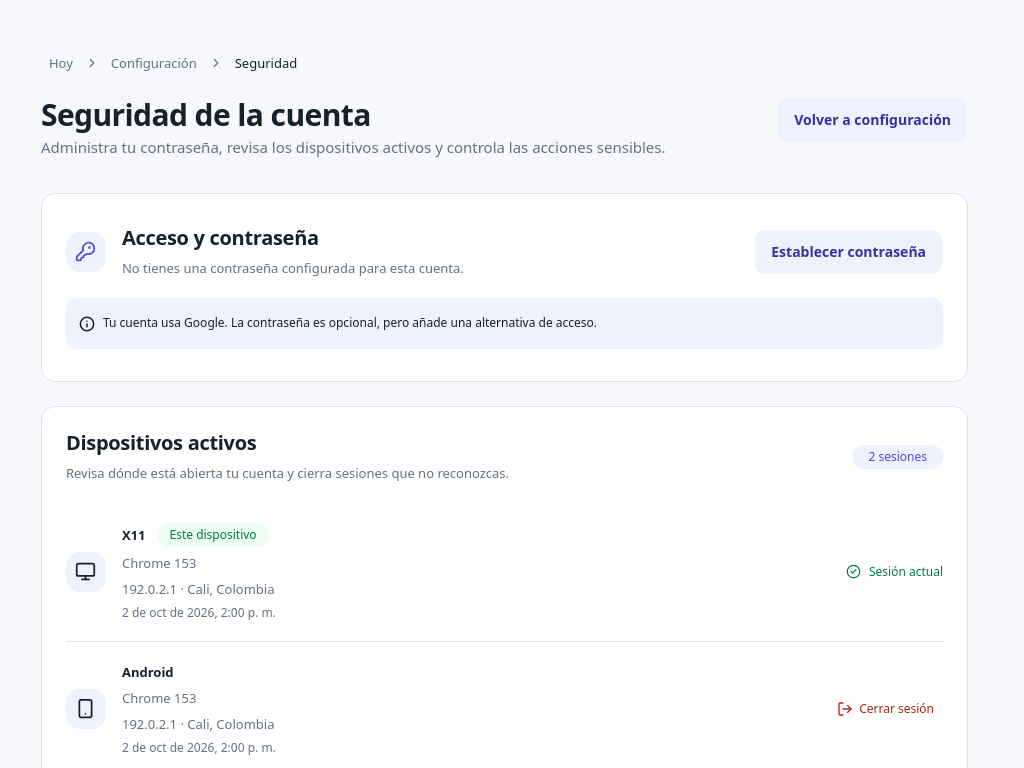
SecurityPage › muestra los dispositivos reales y sólo permite cerrar las otras sesiones
Expected: the text "2 sesiones" is shown, top-left (852, 445), bottom-right (943, 469)
Expected: the text "Este dispositivo" is shown, top-left (158, 523), bottom-right (269, 547)
What coordinates should you click on to do the following:
click the button with aria-label "Cerrar sesión: Android"
I would click on:
 (886, 709)
Its box is top-left (828, 687), bottom-right (943, 731).
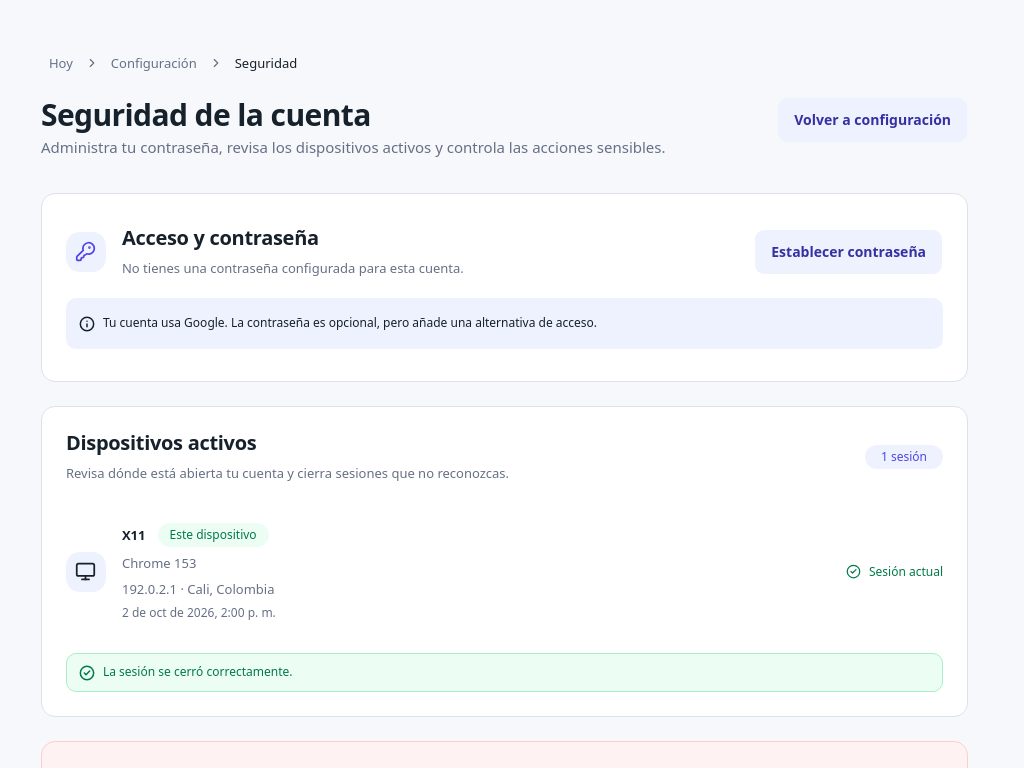
Expected: the text "1 sesión" is shown, top-left (865, 445), bottom-right (943, 469)
Expected: the text "La sesión se cerró correctamente." is shown, top-left (103, 664), bottom-right (292, 680)
